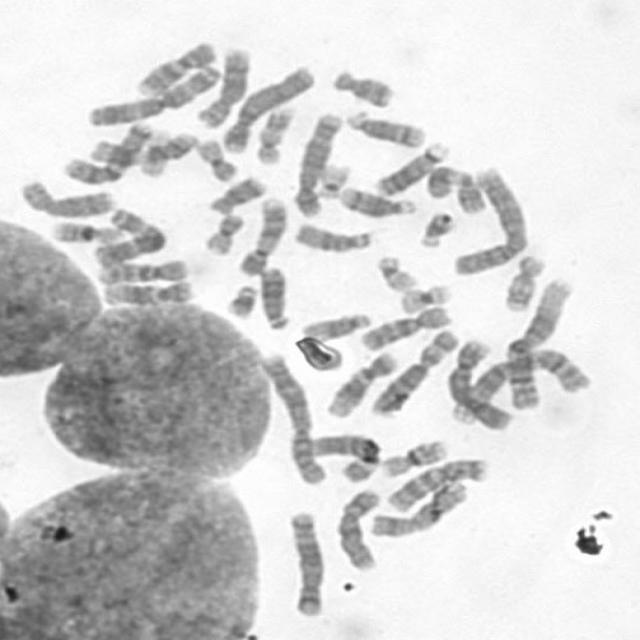A1: (444, 344, 592, 426), (500, 273, 574, 413)
A2: (254, 348, 328, 487), (449, 163, 531, 276)
A3: (83, 59, 225, 127), (88, 202, 169, 268)
B4: (218, 60, 318, 154), (443, 335, 513, 430)
B5: (289, 107, 345, 218), (281, 506, 327, 618)
C10: (354, 301, 453, 353), (91, 255, 190, 285)
C11: (86, 127, 202, 167), (422, 160, 490, 215)
C12: (322, 346, 401, 419), (98, 275, 197, 306)
C6: (364, 323, 462, 417), (304, 429, 382, 484)
C7: (57, 115, 156, 187), (383, 452, 491, 514)
C8: (191, 42, 253, 128), (15, 175, 119, 218)
C9: (128, 36, 219, 98), (233, 193, 290, 277)
D13: (369, 136, 453, 198), (254, 260, 294, 331)
D14: (341, 105, 429, 149), (332, 182, 417, 218)
D15: (289, 216, 378, 254), (296, 307, 373, 340)
E16: (376, 434, 451, 478), (47, 216, 125, 245)
E17: (250, 102, 298, 166), (500, 250, 547, 312)
E18: (327, 64, 398, 109), (203, 171, 270, 215)
F19: (394, 279, 454, 315), (134, 125, 174, 178)
F20: (192, 133, 241, 183), (198, 208, 247, 256)
G21: (414, 207, 458, 250), (220, 279, 261, 320)
G22: (371, 250, 420, 292), (310, 158, 354, 200)
X: (366, 476, 472, 538), (331, 482, 384, 572)
